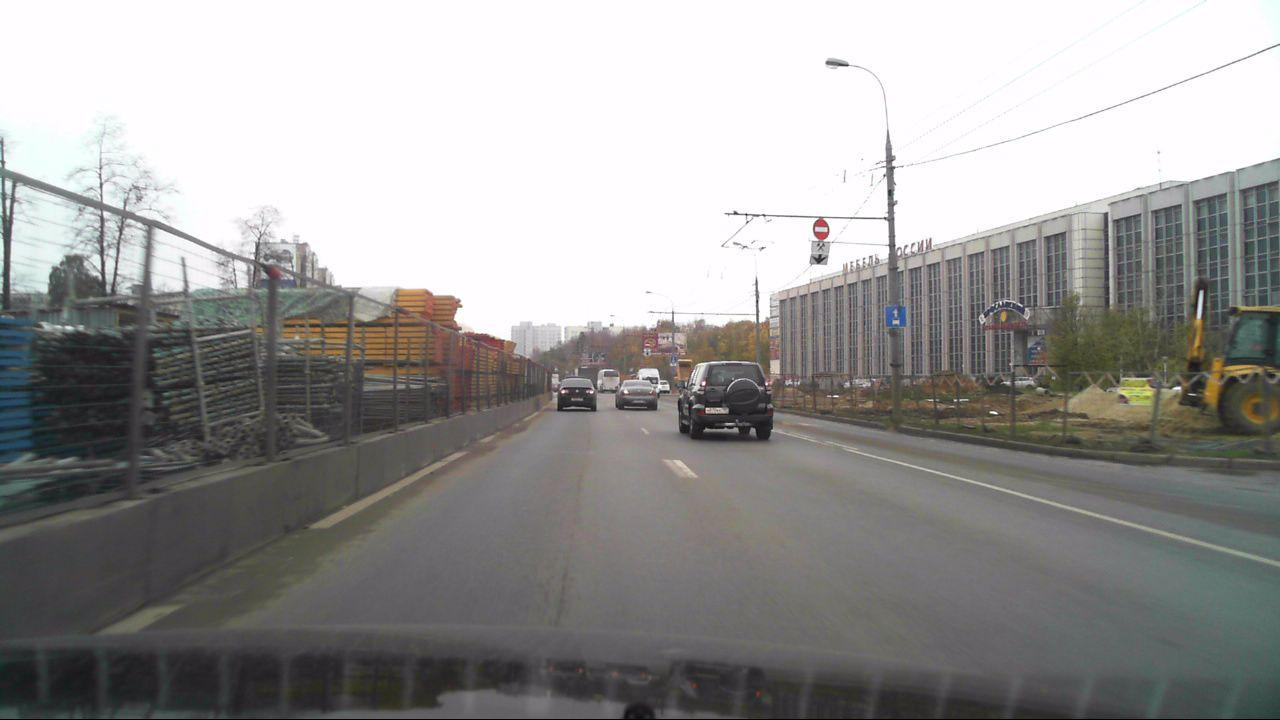road_sign: (885, 305, 907, 327), (813, 219, 829, 239)
